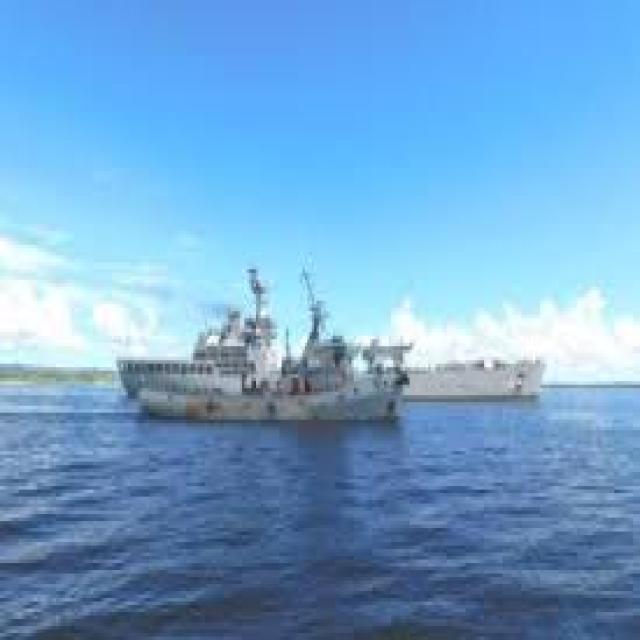navalvessels: (115, 258, 407, 431), (390, 317, 544, 392)
